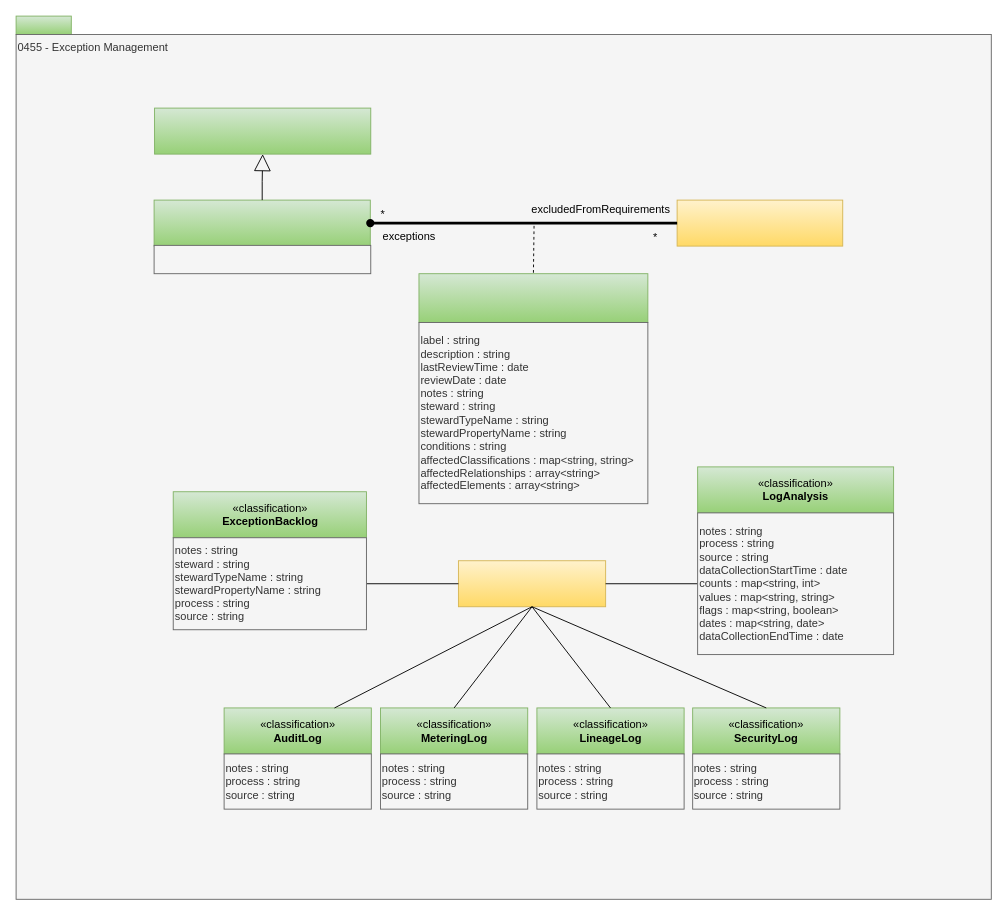
Some shapes in this 1007 by 915 pixel diagram are drawn without their labels. The shapes that lost their labels are listed below. From the top down, each one's centre as x and y in pixels, then its label:
At (262,130): "«entity» GovernanceControl".
At (261,222): "«entity» ExceptionType".
At (759,222): "«entity» Referenceable".
At (533,297): "«relationship» Exception".
At (532,583): "«entity» Asset".
